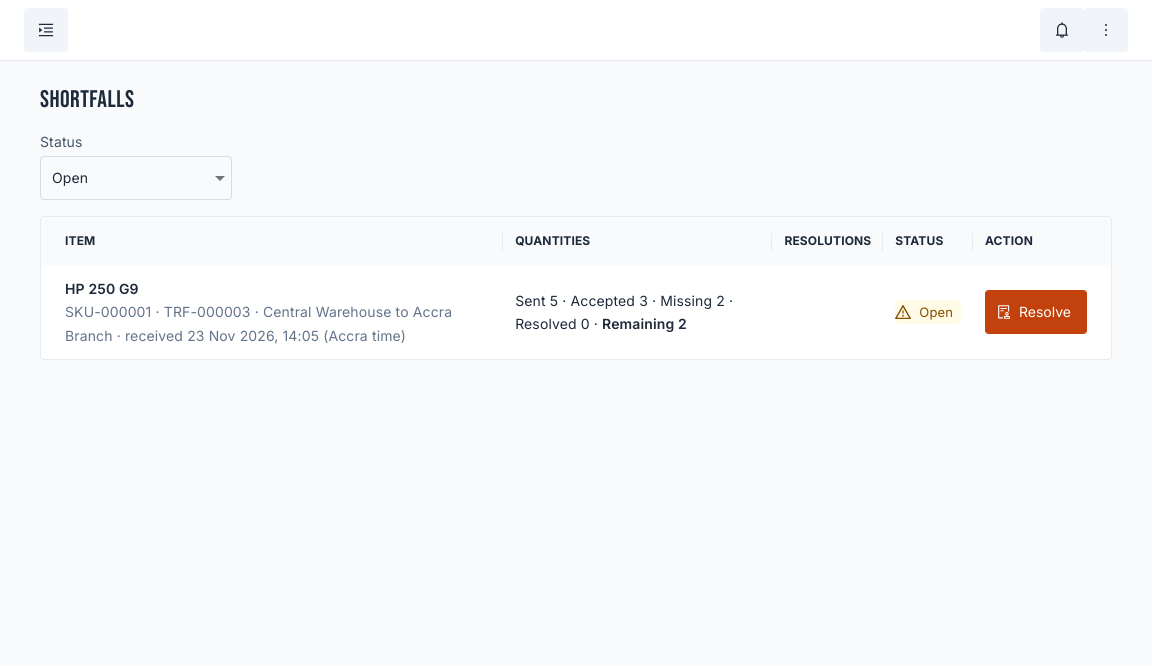
shortfalls screen › a quantity above what remains shows the server message and changes nothing
Click the button with aria-label "Resolve shortfall of HP 250 G9".
click(1036, 312)  # box [985, 290, 1087, 334]
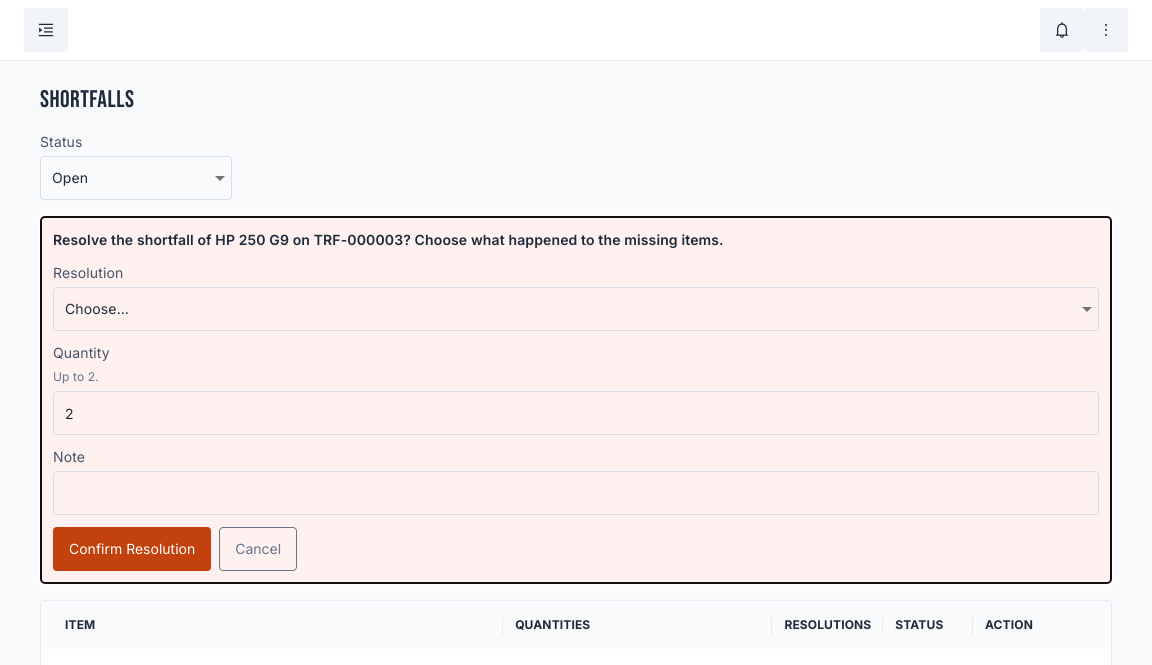
Select "Confirm loss" in the dropdown labelled "Resolution" at coordinates (576, 309), box [53, 287, 1099, 331]
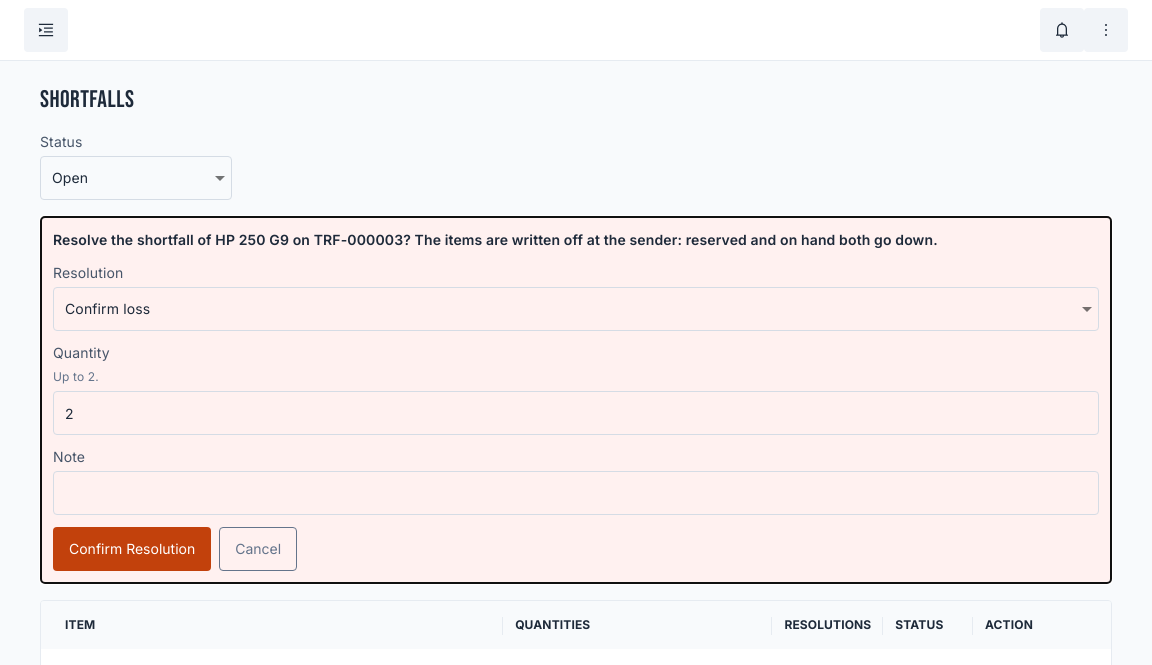
Replace the text in the field labelled "Quantity" with "5" at coordinates (576, 413), box [53, 391, 1099, 435]
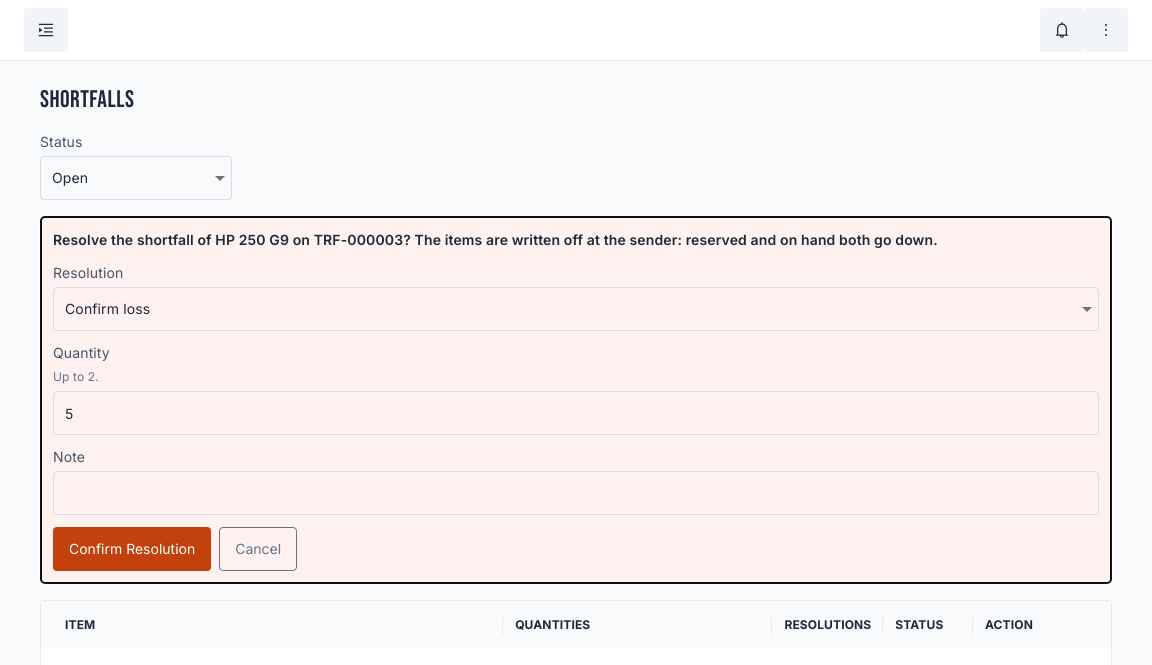
Type "Checked with the courier." into the field labelled "Note".
click(576, 493); type("Checked with the courier.")  # box [53, 471, 1099, 515]
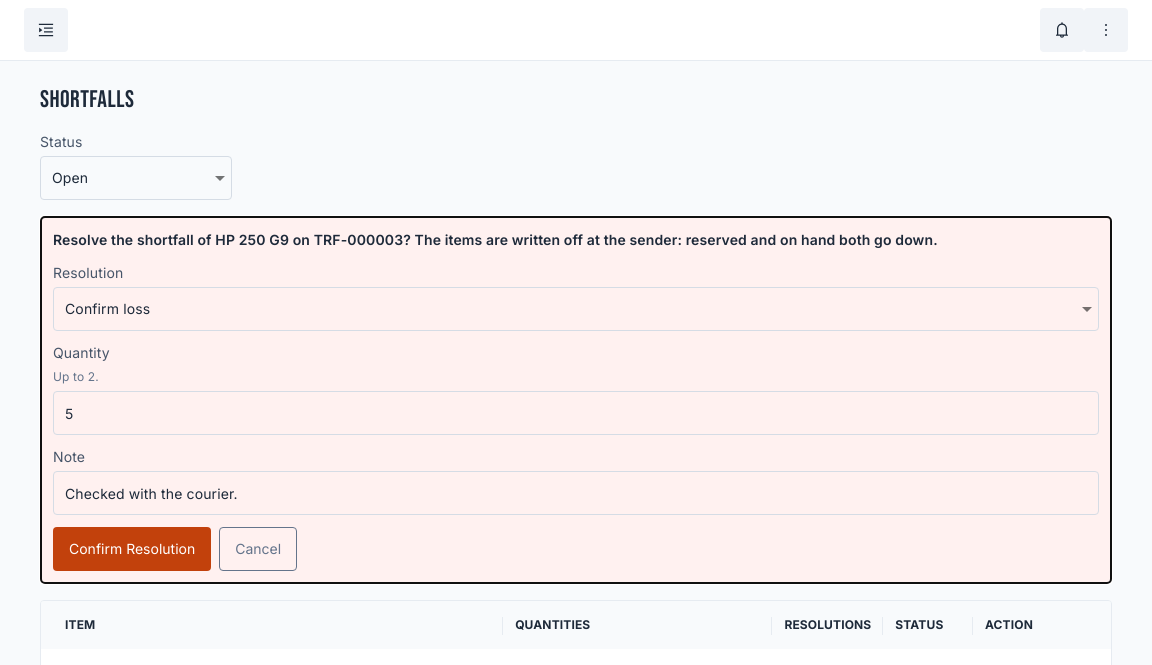
Click the button "Confirm resolution".
click(132, 549)  # box [53, 527, 211, 571]
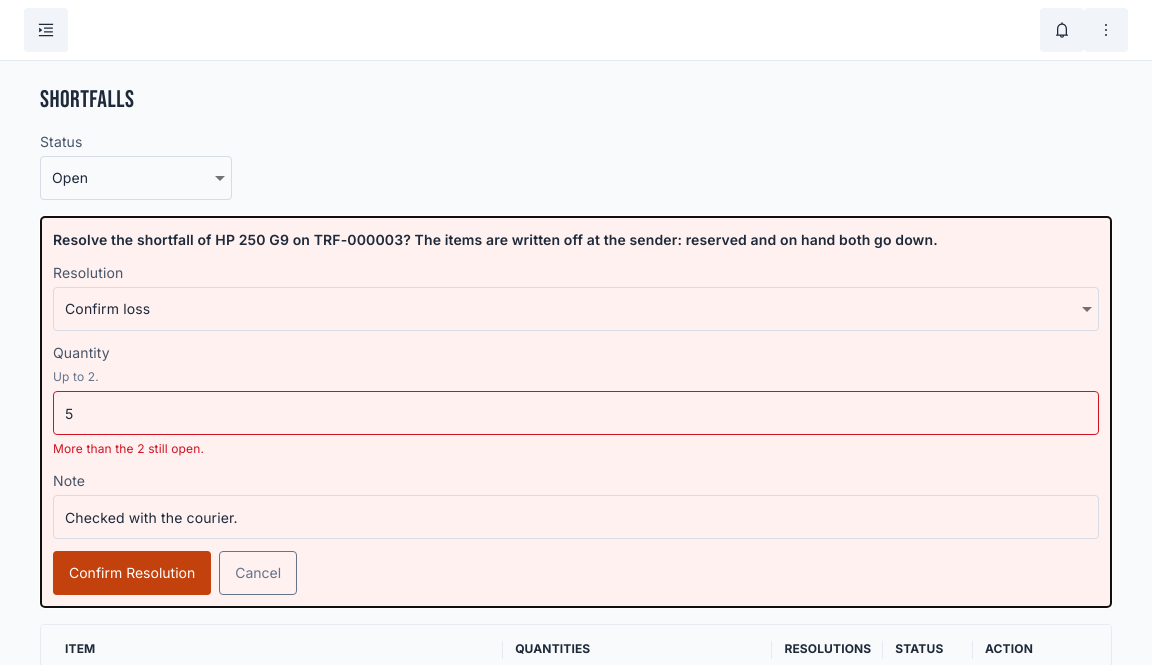
Now the text "More than the 2 still open." is shown, box [53, 441, 204, 456]
